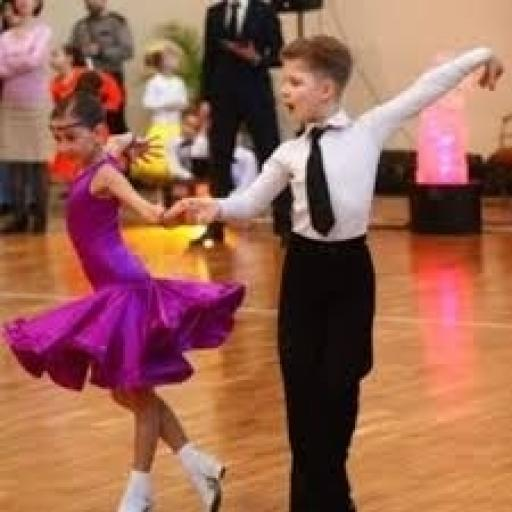dancing: (162, 32, 505, 510), (0, 82, 250, 510)
